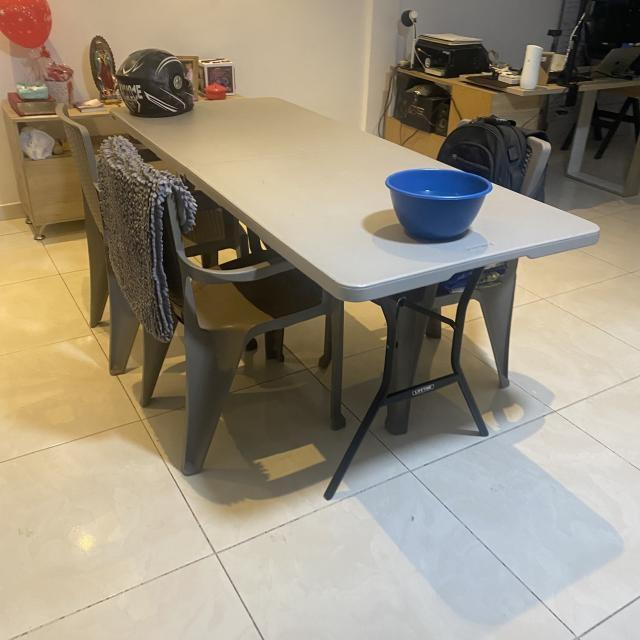obstacle: (75, 124, 581, 504), (369, 8, 640, 185), (4, 41, 142, 248)
